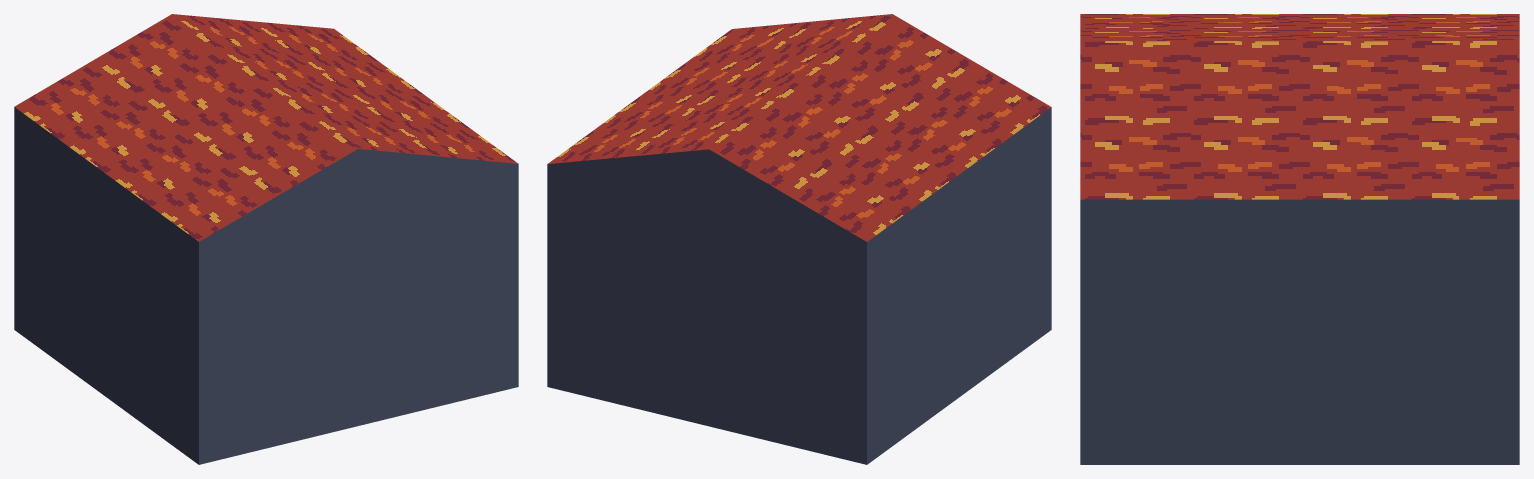
Rendered from Generic Building.glb.
3 renders of one model, left to right at view 1: azimuth 30°, elevation 25°; view 2: azimuth 150°, elevation 25°; view 3: azimuth 270°, elevation 25°, orthographic. The views are drawn at different scales.
Parts seen in each view (by area): view 1: genericBuilding-col; view 2: genericBuilding-col; view 3: genericBuilding-col.
Part boxes in pixels (x1=…): genericBuilding-col: x1=14, y1=14, x2=518, y2=464; genericBuilding-col: x1=547, y1=14, x2=1051, y2=464; genericBuilding-col: x1=1080, y1=14, x2=1519, y2=464.
Bounding box in the file's own units: 4.38 × 3.63 × 4.38.
Materials: 2 (1 with a texture image).
